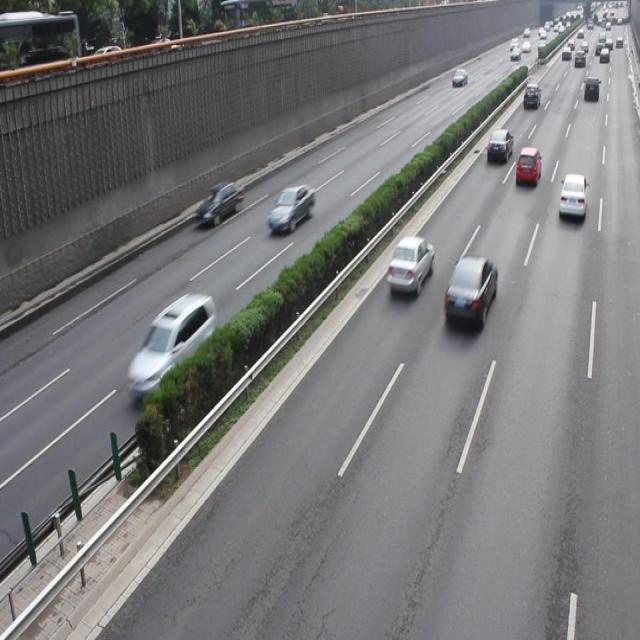car: (125, 290, 215, 389), (442, 252, 497, 326), (386, 234, 434, 296), (267, 183, 314, 233), (196, 178, 243, 226), (557, 172, 585, 220), (514, 144, 540, 185), (485, 129, 512, 163)
